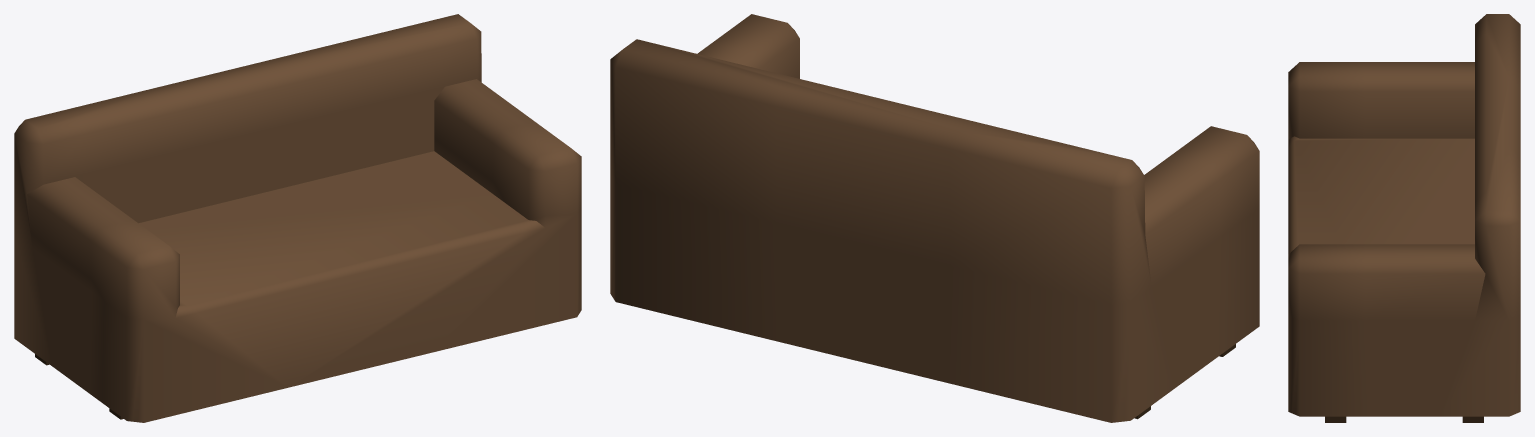
Rendered from couch.glb.
The picture shows the model from 3 angles, left to right: view 1: azimuth 30°, elevation 25°; view 2: azimuth 150°, elevation 25°; view 3: azimuth 270°, elevation 25°; orthographic projection. The views are drawn at different scales.
Parts seen in each view (by area): view 1: Cube; view 2: Cube; view 3: Cube.
Part boxes in pixels (bbox=[...]): Cube: bbox=[14, 14, 581, 422]; Cube: bbox=[610, 14, 1259, 422]; Cube: bbox=[1288, 14, 1520, 422].
Size of the model in its own units: 4.62 by 2.2 by 2.2.
